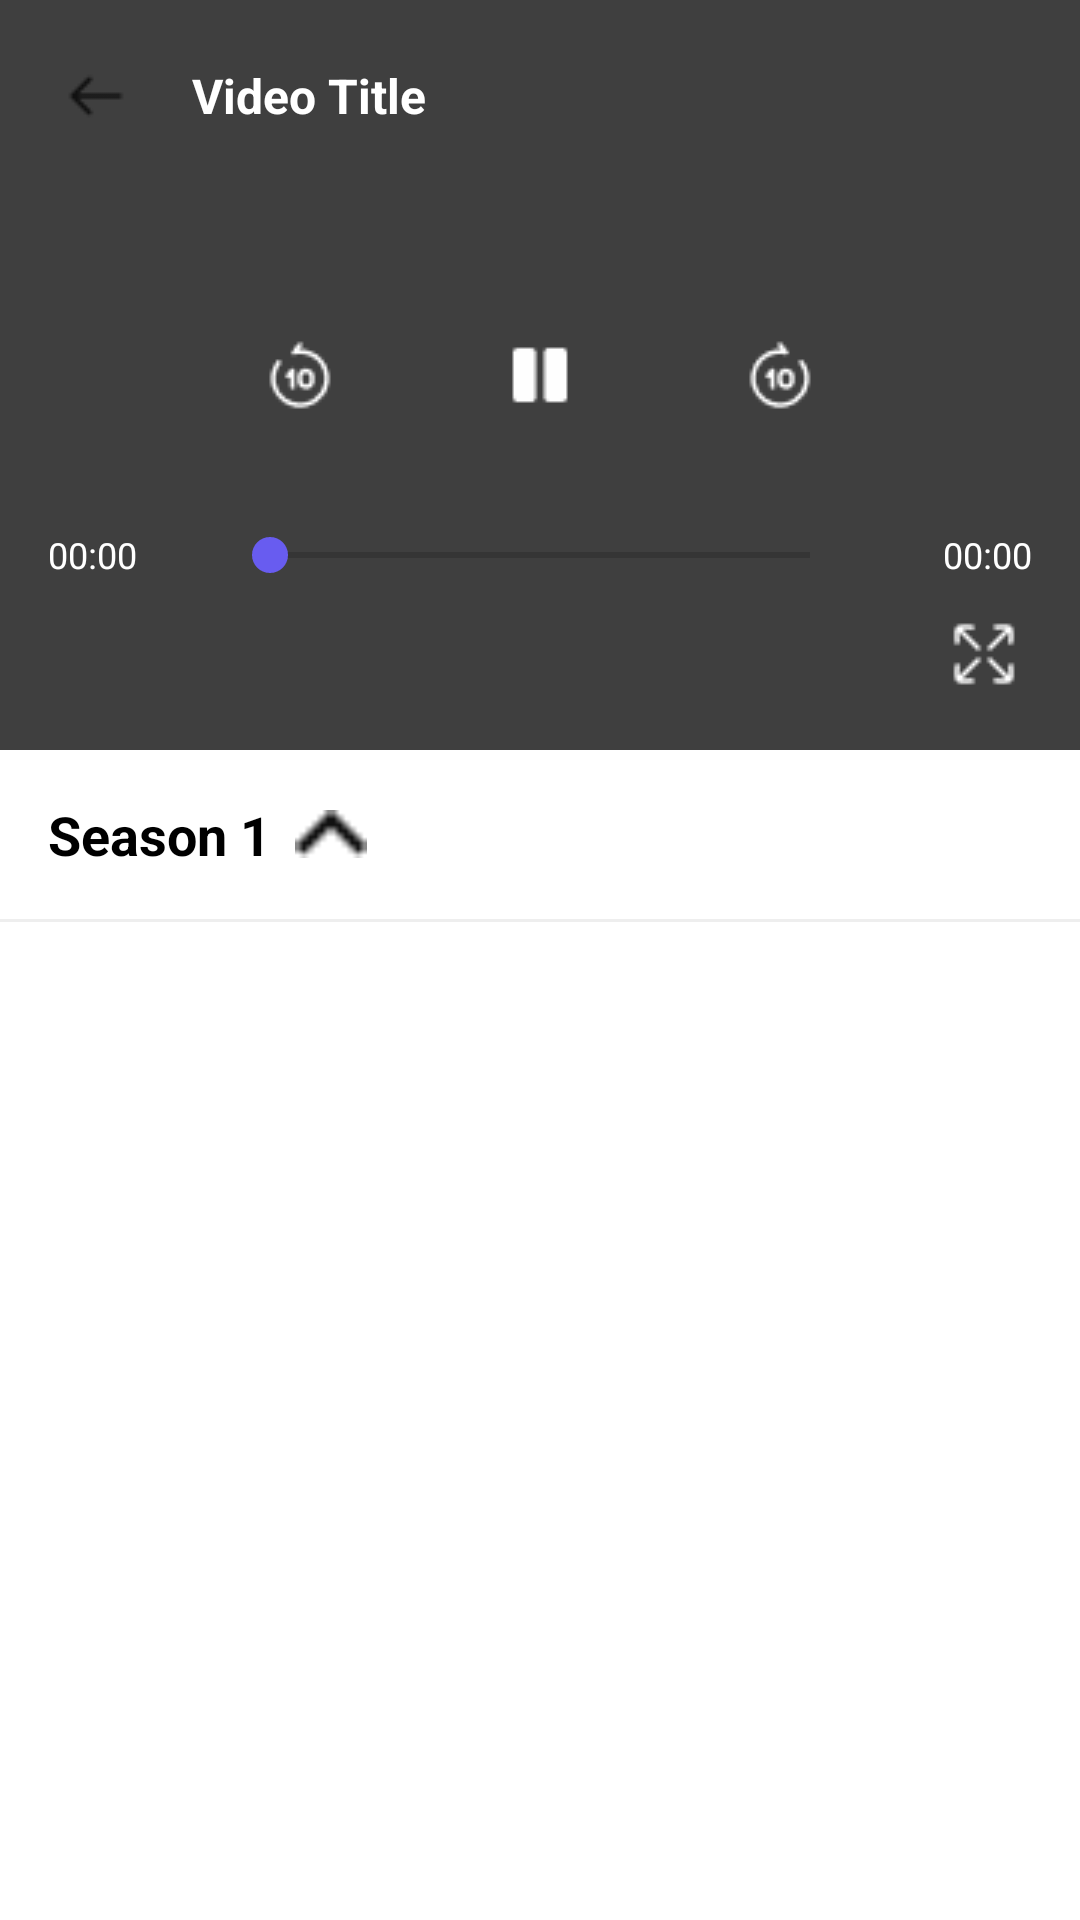

Icons on this 1080px x 1920px Android screen, each with the point to tap as point (x, y):
Back: point (95, 96)
Dropdown: point (331, 834)
Forward 10 seconds: point (780, 375)
Fullscreen: point (984, 654)
Play/Pause: point (540, 375)
Rewind 10 seconds: point (300, 375)
